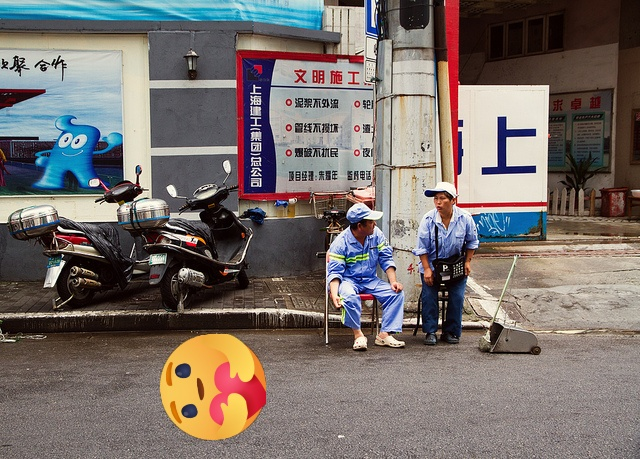care: (160, 334, 266, 440)
